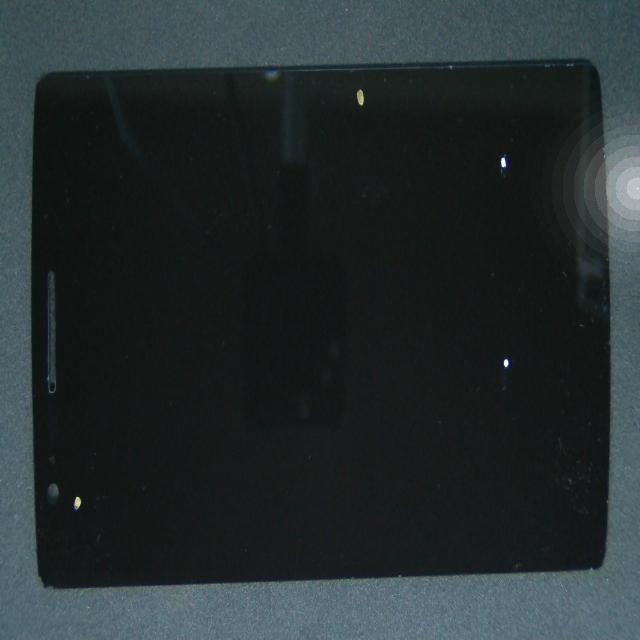stain: (212, 203, 640, 567), (208, 58, 640, 246), (18, 292, 113, 640)
